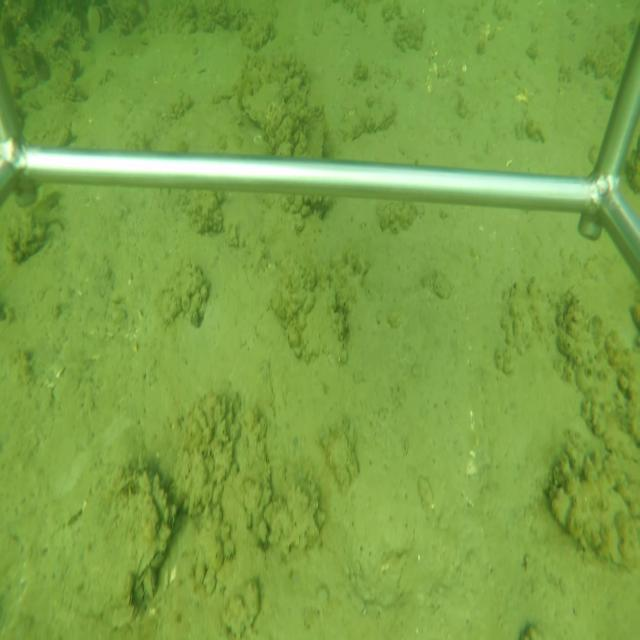Oyster-Closed: (142, 564, 158, 607), (147, 544, 166, 570)
Oyster-Indeterminate: (101, 465, 174, 593)
